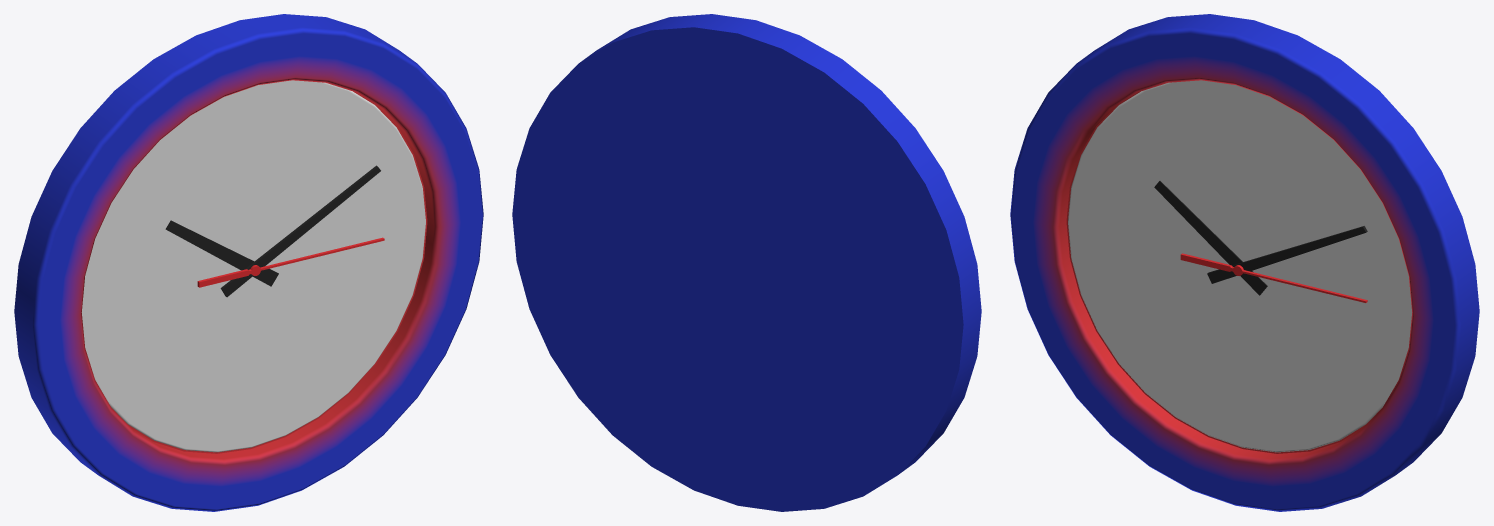
The model's file is WallClock.fbx.
The picture shows the model from 3 angles, left to right: view 1: azimuth 30°, elevation 25°; view 2: azimuth 150°, elevation 25°; view 3: azimuth 330°, elevation 25°; orthographic projection.
Visible parts, largest first — view 1: Glass_LP, Clock_LP, Minutes_Pointer, Hours_Pointer, Seconds_Pointer; view 2: Clock_LP; view 3: Glass_LP, Clock_LP, Minutes_Pointer, Hours_Pointer, Seconds_Pointer.
Part boxes in pixels (x1,y1,x2,y2): Glass_LP: (81,80,425,452); Clock_LP: (14,14,483,511); Minutes_Pointer: (220,165,380,297); Hours_Pointer: (165,220,278,286); Seconds_Pointer: (197,237,384,287); Clock_LP: (512,14,981,511); Glass_LP: (1068,80,1412,452); Clock_LP: (1010,14,1479,511); Minutes_Pointer: (1207,226,1367,283); Hours_Pointer: (1154,181,1267,295); Seconds_Pointer: (1180,253,1367,302).
Size of the model in its own units: 316 by 316 by 25.
